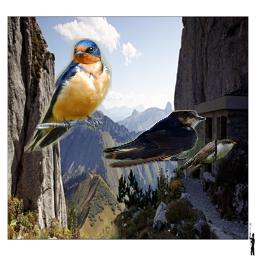Cuckoo: (170, 138, 237, 173)
Swallow: (24, 38, 112, 153), (102, 110, 206, 168)
